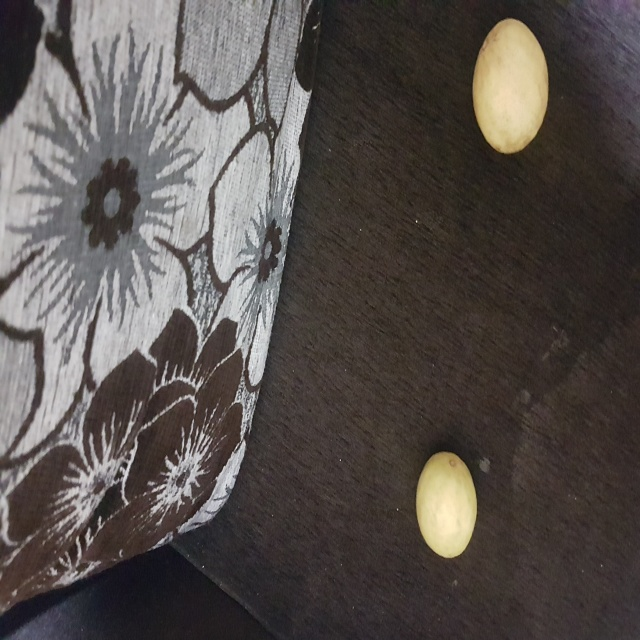lemon: (458, 13, 569, 166), (392, 446, 486, 565)
